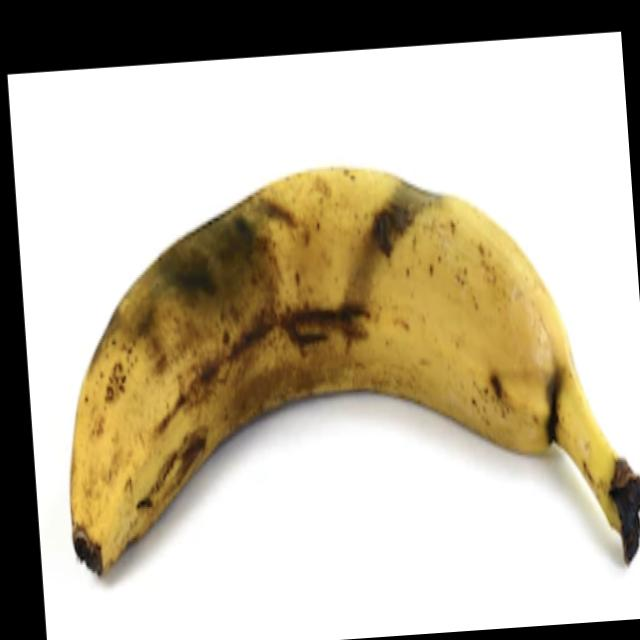banana: (43, 35, 533, 515)
